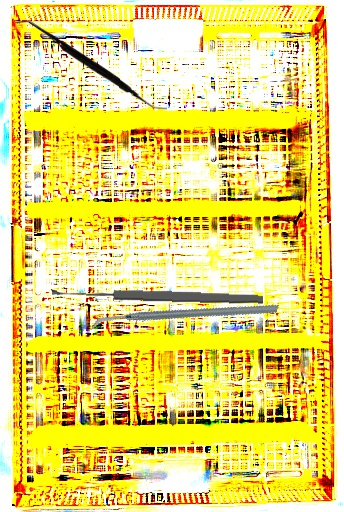Chopper: (90, 247, 279, 388)
Spatula Surgical: (13, 20, 169, 112)
Surgical Spoon: (51, 285, 264, 306)
